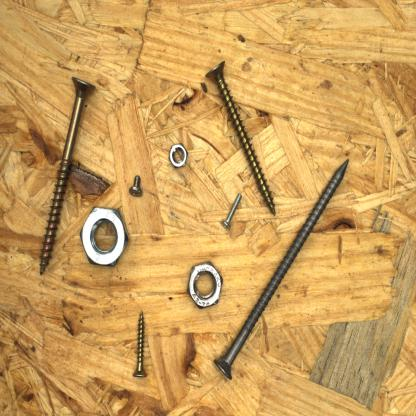screw: (210, 155, 354, 382), (36, 72, 102, 276), (202, 55, 278, 215), (130, 305, 152, 384), (219, 191, 244, 231), (126, 170, 146, 199)
